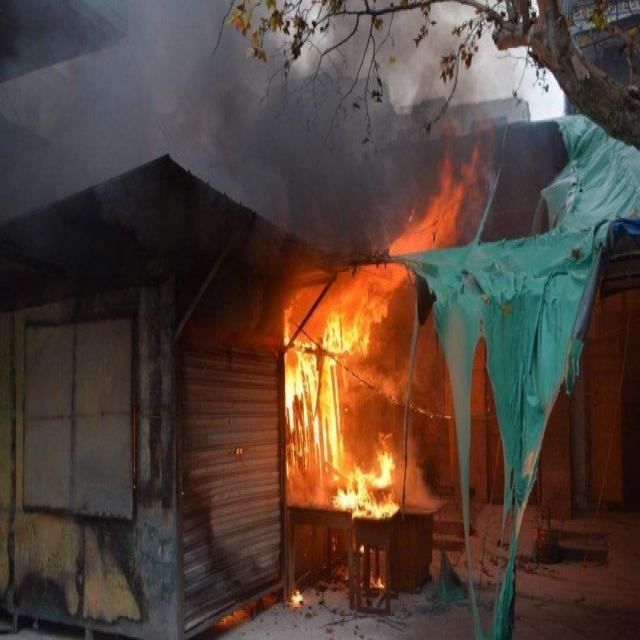Fire: (282, 317, 362, 430), (334, 446, 399, 520)
